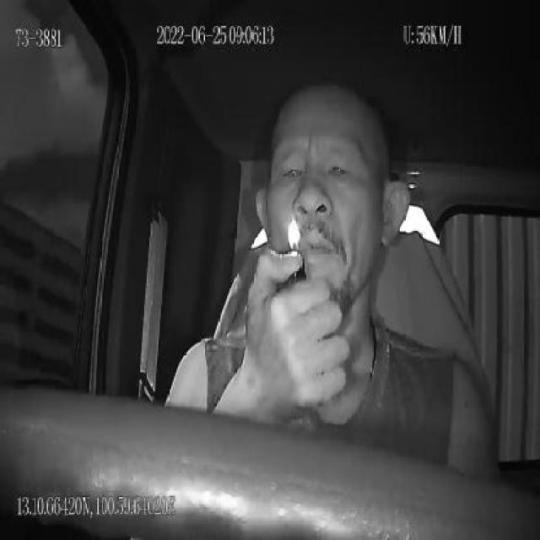smoking: (289, 227, 313, 252)
